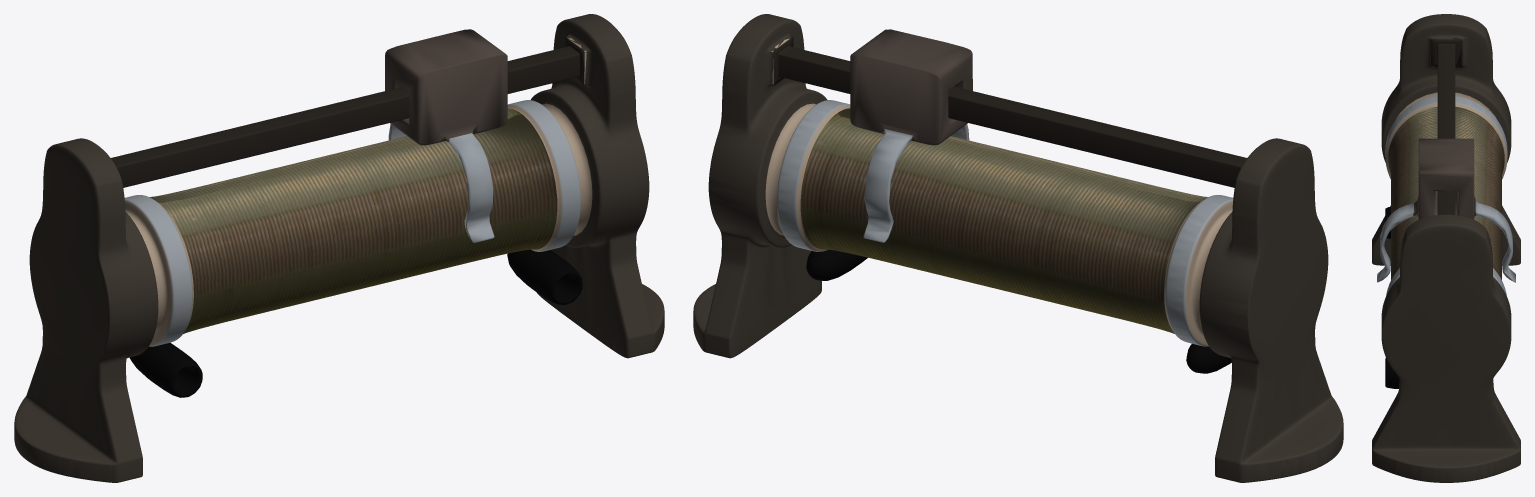
Rendered from RheostatLP.fbx.
The picture shows the model from 3 angles, left to right: view 1: azimuth 30°, elevation 25°; view 2: azimuth 150°, elevation 25°; view 3: azimuth 270°, elevation 25°; orthographic projection. The views are drawn at different scales.
Visible parts, largest first — view 1: Body, Pointer.001, ClemaRight.003, ClemaLeft.001; view 2: Body, Pointer.001, ClemaRight.003, ClemaLeft.001; view 3: Body, Pointer.001, ClemaRight.003.
Part boxes in pixels (x1=…): Body: x1=14, y1=14, x2=664, y2=482; Pointer.001: x1=385, y1=29, x2=507, y2=242; ClemaRight.003: x1=507, y1=249, x2=582, y2=304; ClemaLeft.001: x1=130, y1=342, x2=202, y2=397; Body: x1=693, y1=14, x2=1343, y2=482; Pointer.001: x1=850, y1=29, x2=972, y2=242; ClemaRight.003: x1=806, y1=249, x2=867, y2=280; ClemaLeft.001: x1=1186, y1=343, x2=1231, y2=373; Body: x1=1372, y1=14, x2=1520, y2=482; Pointer.001: x1=1377, y1=138, x2=1515, y2=282; ClemaRight.003: x1=1385, y1=358, x2=1399, y2=388.
Size of the model in its own units: 1251 by 590 by 320.
7 materials, 1 textured.
